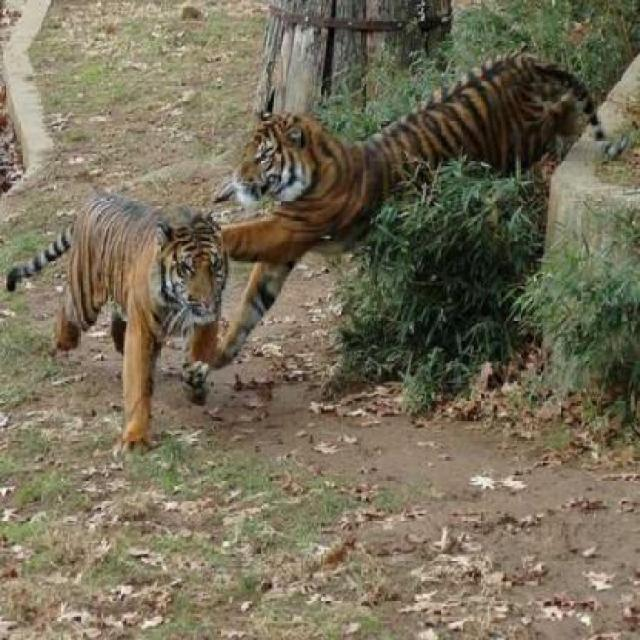tiger: (204, 48, 619, 373), (4, 191, 229, 456)
